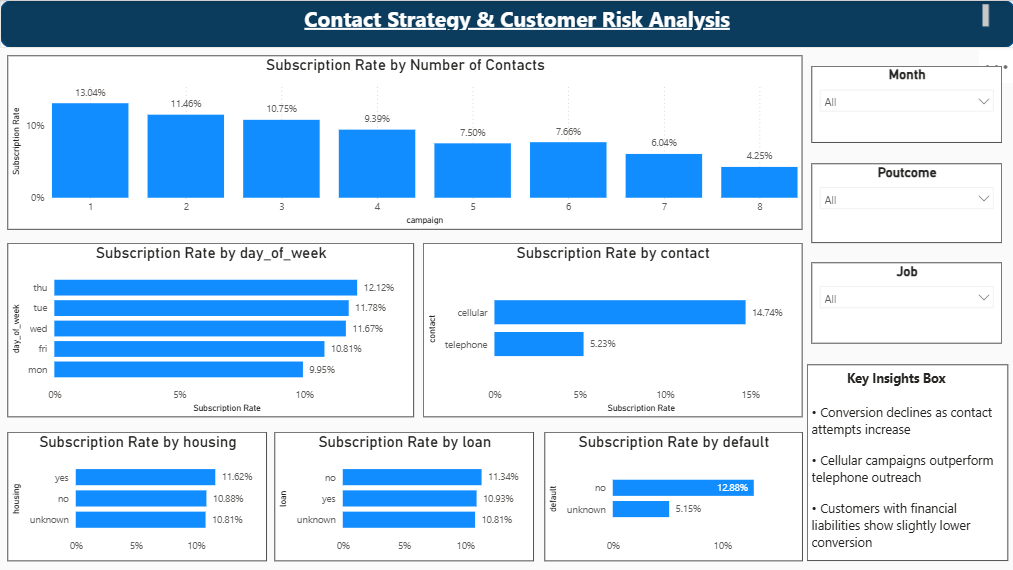

The dashboard page shown, as its layout file describes it:
{"tool":"powerbi","page":{"name":"Page 2","canvas":[1280,720],"ordinal":1},"visuals":[{"type":"shape","box":[0,0,1279.4,60.5],"z":0},{"type":"textbox","box":[60.5,0,1190.6,41.6],"z":1000},{"type":"clusteredColumnChart","title":"Subscription Rate by Number of Contacts","fields":{"Category":["bank-additional-full.campaign"],"Y":["bank-additional-full.Subscription Rate"]},"box":[9.4,69.9,1001.6,219.2],"z":2000},{"type":"clusteredBarChart","fields":{"Category":["bank-additional-full.day_of_week"],"Y":["bank-additional-full.Subscription Rate"]},"box":[9.4,306.1,512.1,219.2],"z":3000},{"type":"clusteredBarChart","fields":{"Category":["bank-additional-full.contact"],"Y":["bank-additional-full.Subscription Rate"]},"box":[532.9,306.1,478.1,219.2],"z":4000},{"type":"barChart","fields":{"Category":["bank-additional-full.housing"],"Y":["bank-additional-full.Subscription Rate"]},"box":[9.4,544.3,326.9,162.5],"z":5000},{"type":"barChart","fields":{"Category":["bank-additional-full.loan"],"Y":["bank-additional-full.Subscription Rate"]},"box":[345.8,544.3,326.9,162.5],"z":6000},{"type":"barChart","fields":{"Category":["bank-additional-full.default"],"Y":["bank-additional-full.Subscription Rate"]},"box":[686,544.3,325,162.5],"z":7000},{"type":"slicer","title":"Poutcome","fields":{"Values":["bank-additional-full.poutcome"]},"box":[1022.4,206,240,100.2],"z":8000},{"type":"slicer","title":"Month","fields":{"Values":["bank-additional-full.month"]},"box":[1022.4,83.2,240,96.4],"z":9000},{"type":"textbox","box":[1016.7,459.2,253.2,247.6],"z":10000},{"type":"slicer","title":"Job","fields":{"Values":["bank-additional-full.job"]},"box":[1022.4,330.7,240,102],"z":11000}]}

Visuals, with their boxes in screenshot pixels (x1, y1, x2, y2), scaled from the page's 1280x720 canvas onto the 1013x570 screenshot:
shape: rect(0, 0, 1012, 48)
textbox: rect(48, 0, 990, 33)
"Subscription Rate by Number of Contacts" clusteredColumnChart: rect(7, 55, 800, 229)
clusteredBarChart - bank-additional-full.day_of_week x bank-additional-full.Subscription Rate: rect(7, 242, 413, 416)
clusteredBarChart - bank-additional-full.contact x bank-additional-full.Subscription Rate: rect(422, 242, 800, 416)
barChart - bank-additional-full.housing x bank-additional-full.Subscription Rate: rect(7, 431, 266, 560)
barChart - bank-additional-full.loan x bank-additional-full.Subscription Rate: rect(274, 431, 532, 560)
barChart - bank-additional-full.default x bank-additional-full.Subscription Rate: rect(543, 431, 800, 560)
"Poutcome" slicer: rect(809, 163, 999, 242)
"Month" slicer: rect(809, 66, 999, 142)
textbox: rect(805, 364, 1005, 560)
"Job" slicer: rect(809, 262, 999, 343)
